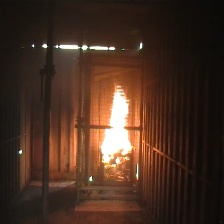fire: (100, 84, 137, 168)
